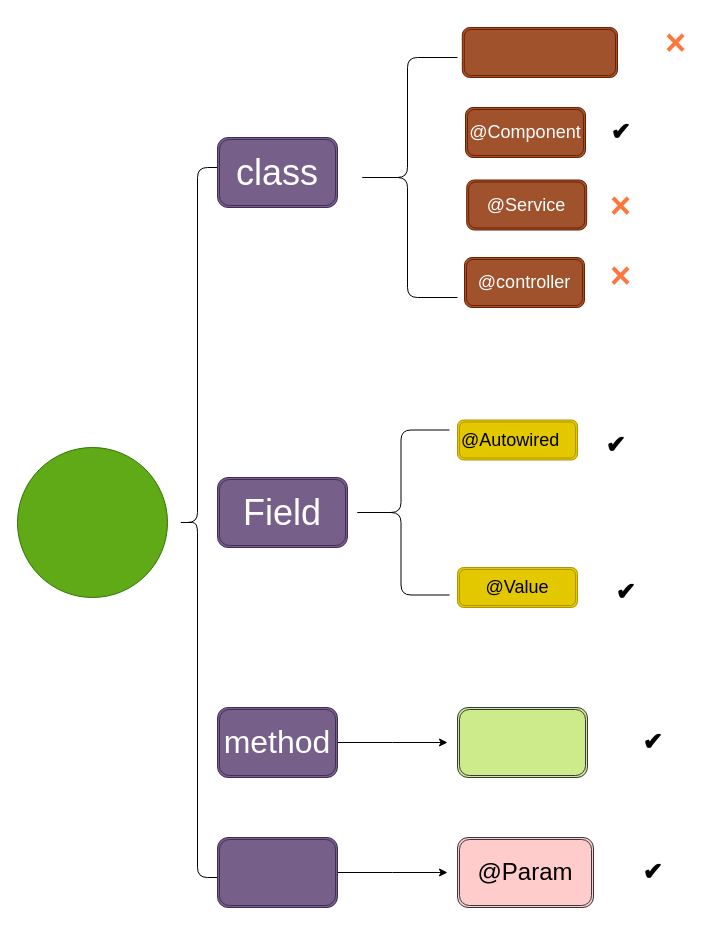
Some shapes in this 718 by 925 pixel diagram are drawn without their labels. Each missing label, with the centre of its shape:
"@ Configuration" goes at (x=92, y=522).
"@Bean" goes at (x=522, y=742).
"@ComponenrScan" goes at (x=539, y=52).
"Param" goes at (x=277, y=872).
